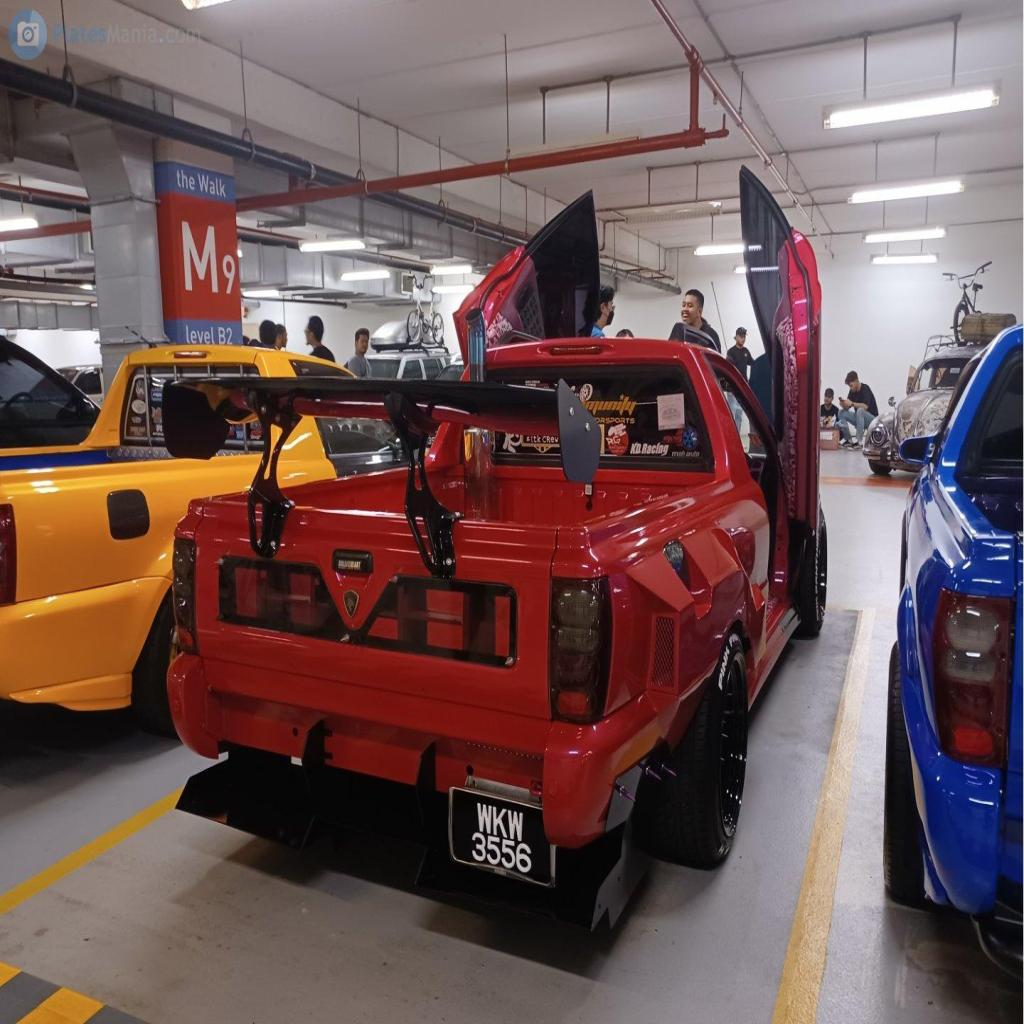car: (168, 169, 827, 926)
car plate: (448, 787, 553, 885)
